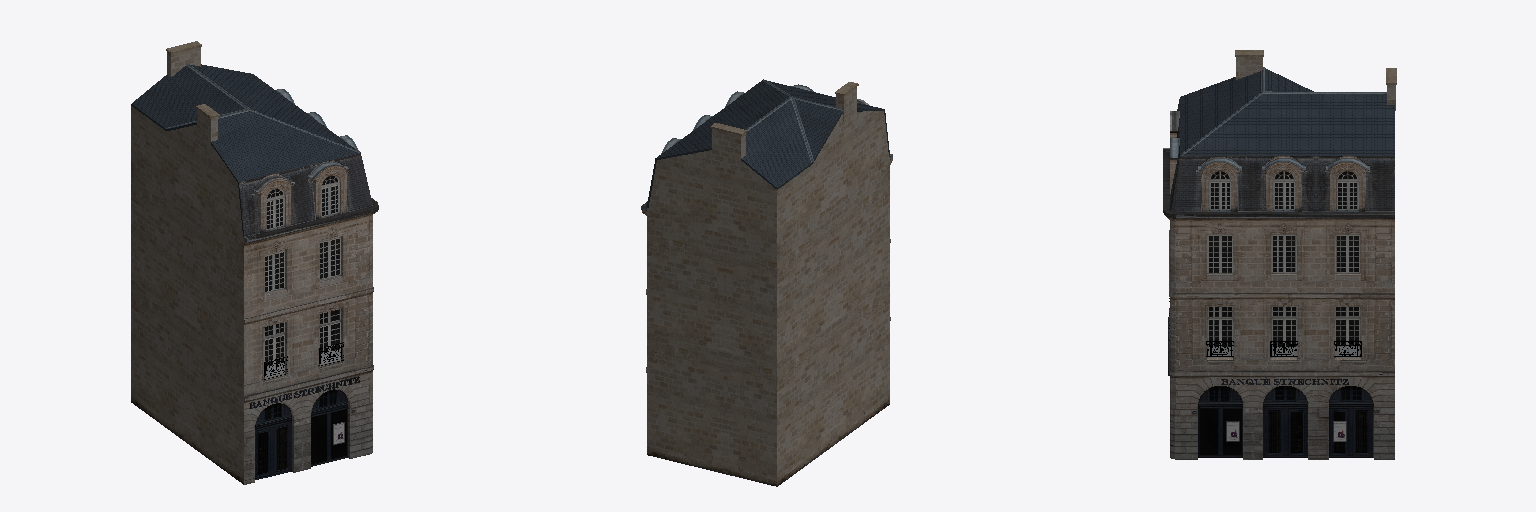
The picture shows the model from 3 angles: view 1: azimuth 30°, elevation 25°; view 2: azimuth 150°, elevation 25°; view 3: azimuth 270°, elevation 25°; orthographic projection.
Visible parts, largest first — view 1: Strechnitz_1_0; view 2: Strechnitz_1_0; view 3: Strechnitz_1_0.
Part boxes in pixels (x1,y1,x2,y2): Strechnitz_1_0: (131,41,378,484); Strechnitz_1_0: (641,79,892,486); Strechnitz_1_0: (1163,50,1396,459).
Bounding box in the file's own units: 7.72 × 18.38 × 11.27.
Materials: 1 (1 with a texture image).